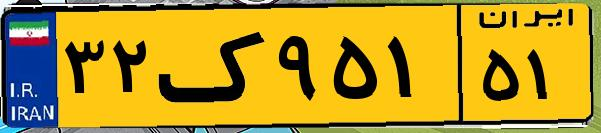1: (385, 28, 445, 110), (525, 38, 570, 115)
2: (110, 28, 158, 98)
3: (57, 26, 110, 100)
5: (330, 28, 385, 110), (475, 38, 525, 113)
9: (270, 28, 330, 110)
ک: (158, 12, 270, 120)
